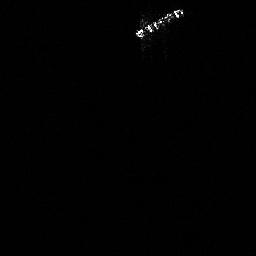ship: (132, 6, 187, 42)
